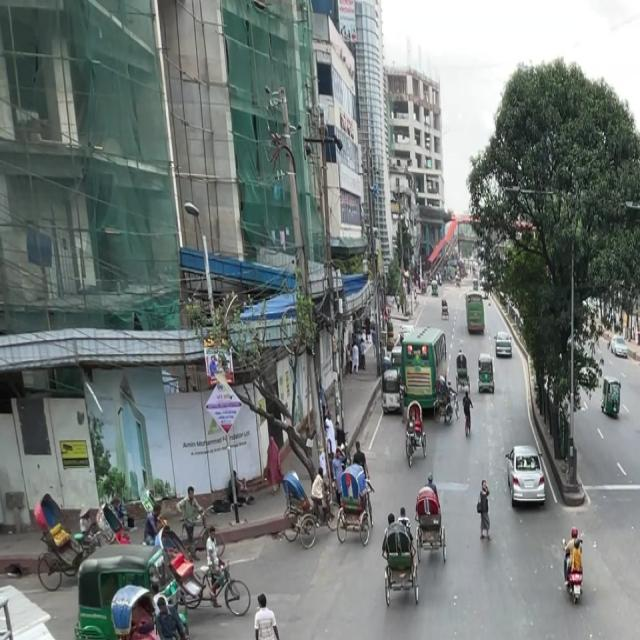bicycle: (458, 386, 475, 442)
bus: (400, 325, 450, 405), (464, 290, 486, 338)
car: (502, 438, 554, 516), (472, 347, 497, 398), (495, 324, 518, 364)
motorbike: (557, 522, 590, 607)
rickshaw: (599, 372, 624, 420)
